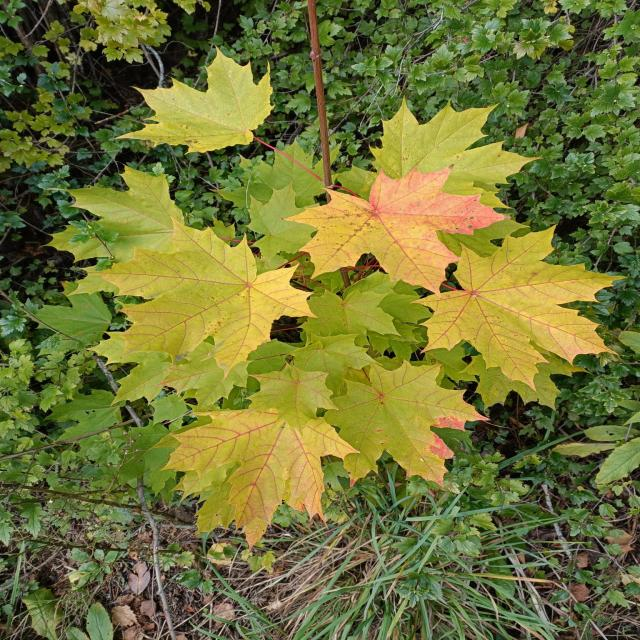Tree-detection: (48, 0, 634, 553)
